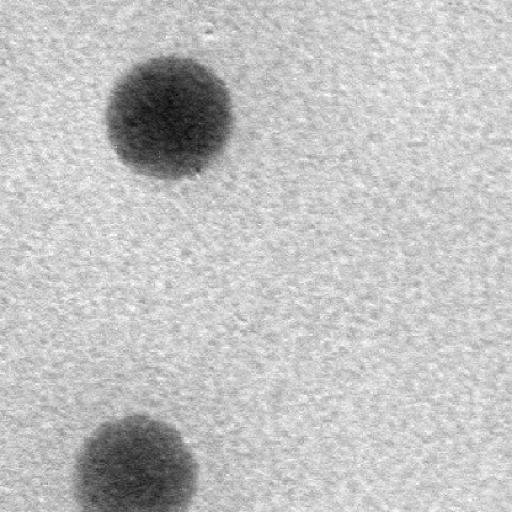Nanoparticles: (107, 56, 234, 180), (72, 412, 204, 512)
